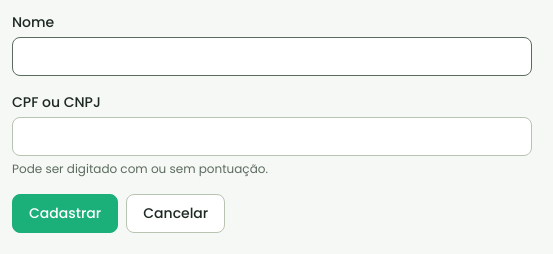
Scenario: ProducerForm › refuses a repeated-digit document without submitting
Step 1. Type "José" into the field labelled "Nome" → (272, 56), box [12,37,532,76]
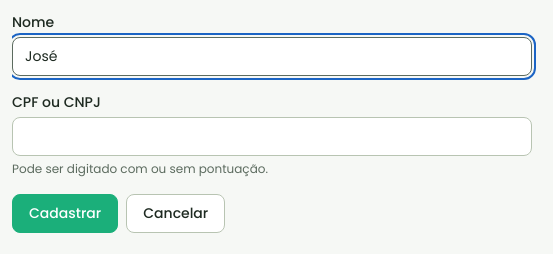
Step 2. Type "11111111111" into the field labelled "CPF ou CNPJ" → (272, 136), box [12,117,532,156]
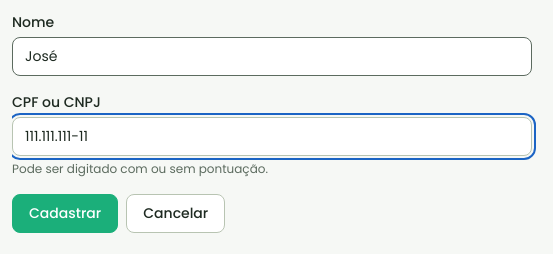
Step 3. Click the button "Cadastrar" → (65, 214), box [12,194,118,233]
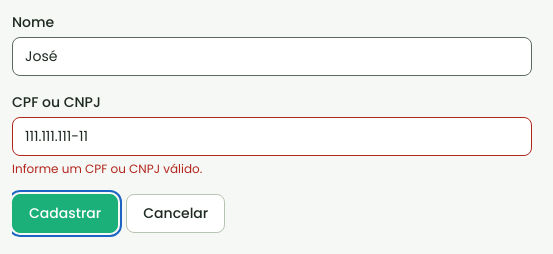
Expected: the text "Informe um CPF ou CNPJ válido." is shown, [12,160,202,177]
